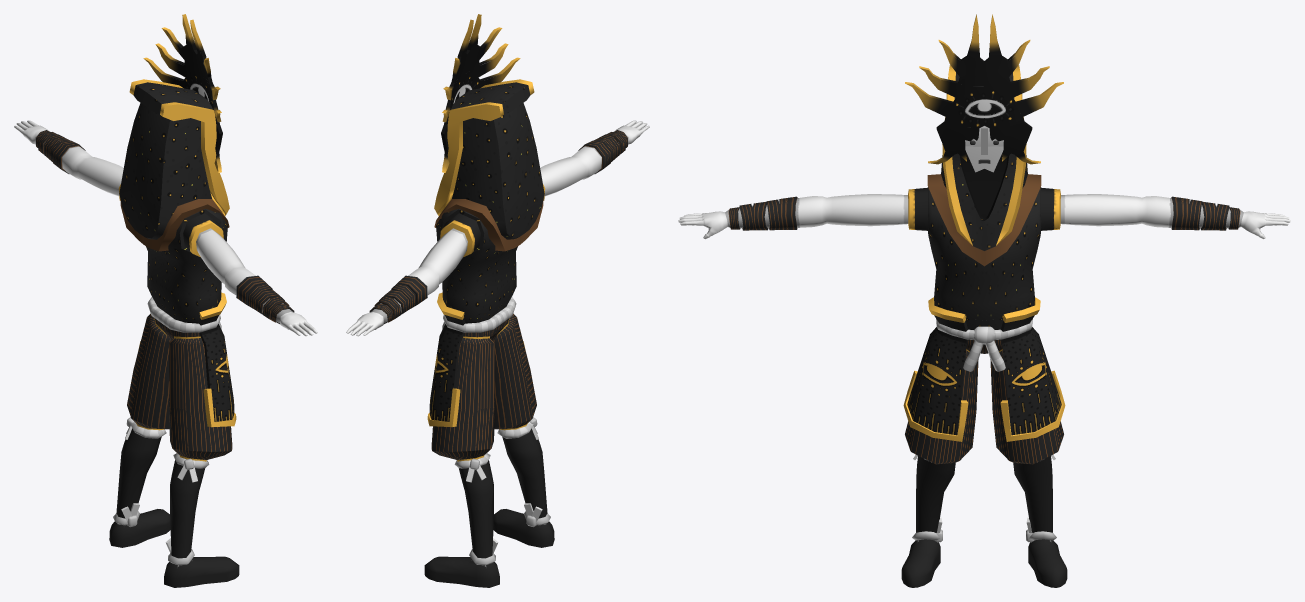
File: EYECleric.fbx
3 renders of one model, left to right at view 1: azimuth 30°, elevation 25°; view 2: azimuth 150°, elevation 25°; view 3: azimuth 270°, elevation 25°, orthographic. The views are drawn at different scales.
Visible parts, largest first — view 1: _100Avatars_148_EYECleric; view 2: _100Avatars_148_EYECleric; view 3: _100Avatars_148_EYECleric.
Part boxes in pixels (box(x1,y1,x2,y2)): _100Avatars_148_EYECleric: box(14, 14, 317, 587); _100Avatars_148_EYECleric: box(346, 14, 649, 587); _100Avatars_148_EYECleric: box(678, 14, 1290, 587).
Size of the model in its own units: 0.7591 by 4.67 by 4.6.
Materials: 1 (1 with a texture image).
